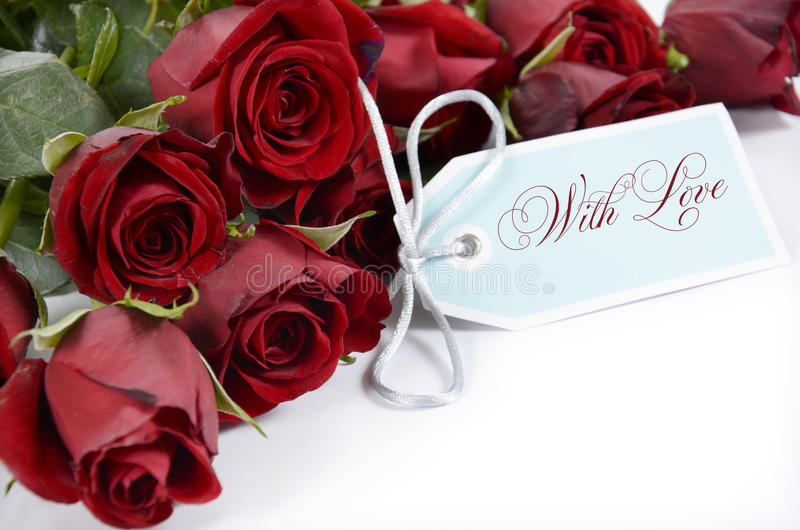RedRose: (148, 1, 395, 210), (4, 286, 221, 521), (43, 115, 237, 299)
